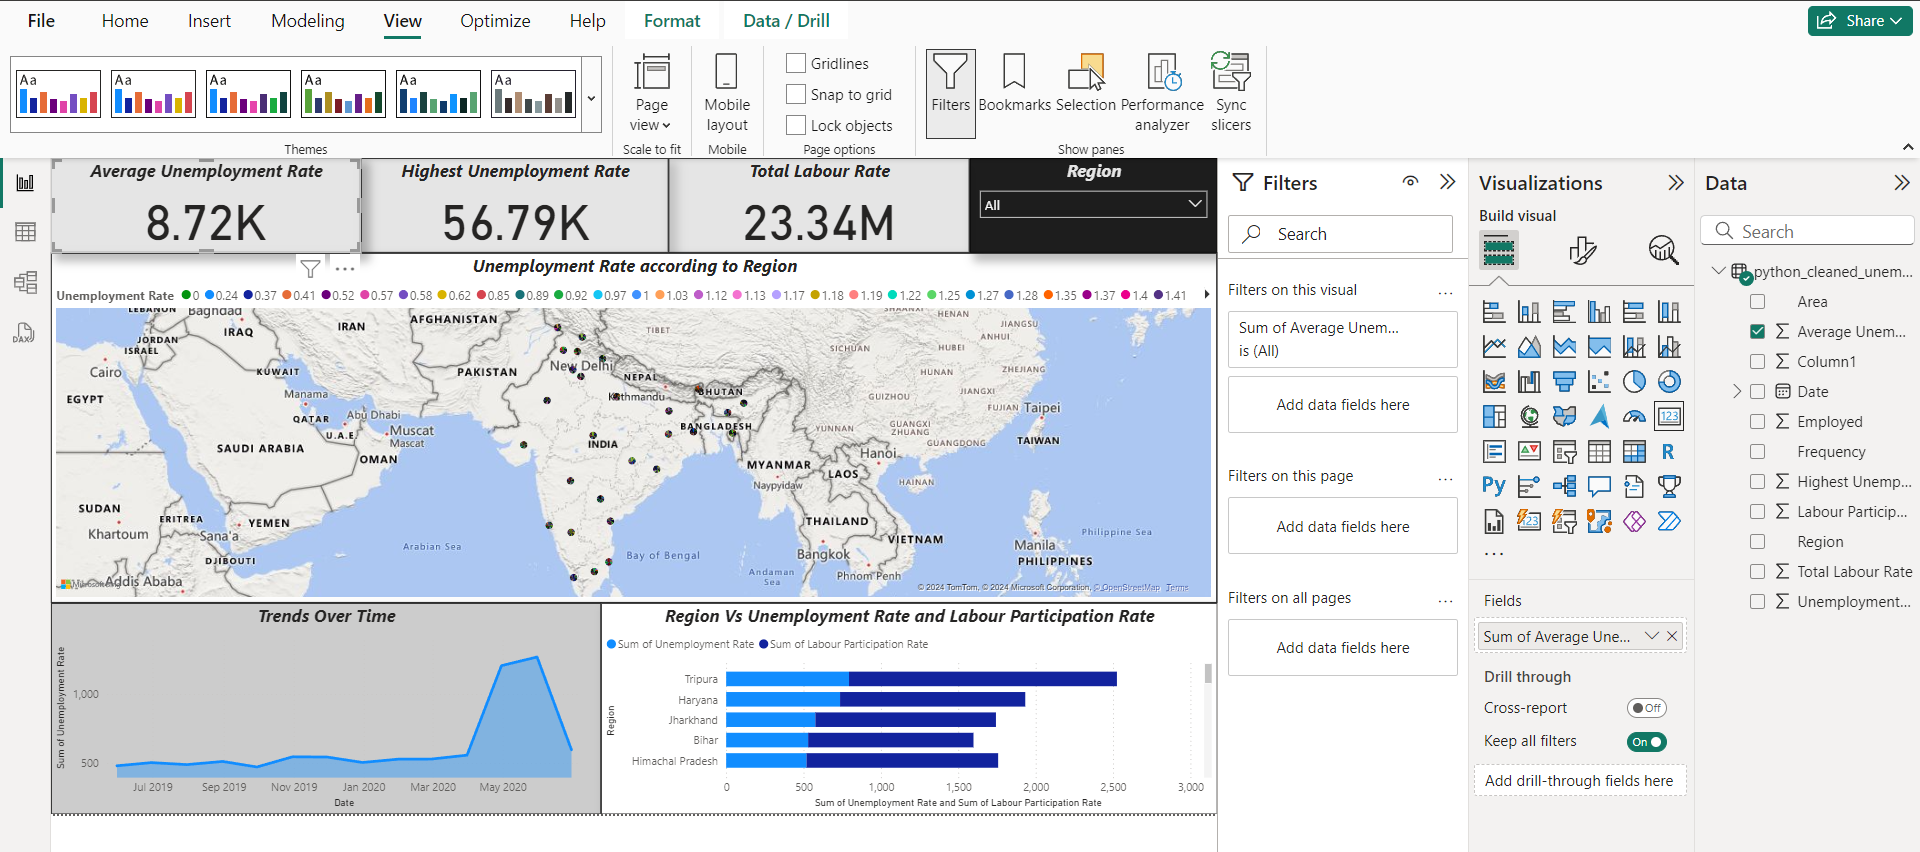

What the dashboard file says about the page in this screenshot:
{"tool":"powerbi","page":{"name":"Page 1","canvas":[1280,720],"ordinal":0},"visuals":[{"type":"card","title":"Average Unemployment Rate","fields":{"Values":["Sum(python_cleaned_unemployment_data.Average Unemployment Rate)"]},"box":[0,0,340.3,104.3],"z":0},{"type":"card","title":"Highest Unemployment Rate","fields":{"Values":["Sum(python_cleaned_unemployment_data.Highest Unemployment Rate)"]},"box":[340.3,0,337.6,104.3],"z":1000},{"type":"card","title":"Total Labour Rate","fields":{"Values":["Sum(python_cleaned_unemployment_data.Total Labour Rate)"]},"box":[677.9,0,330.7,104.3],"z":2000},{"type":"map","title":"Unemployment Rate according to Region","fields":{"Category":["python_cleaned_unemployment_data.Region"],"Series":["python_cleaned_unemployment_data.Unemployment Rate"]},"box":[0,104.3,1280.3,384.2],"z":3000},{"type":"lineChart","title":" Trends Over Time","fields":{"Category":["python_cleaned_unemployment_data.Date"],"Y":["Sum(python_cleaned_unemployment_data.Unemployment Rate)"]},"box":[0,488.5,603.8,231.9],"z":4000},{"type":"barChart","title":"Region Vs Unemployment Rate and Labour Participation Rate","fields":{"Category":["python_cleaned_unemployment_data.Region"],"Y":["Sum(python_cleaned_unemployment_data.Unemployment Rate)","Sum(python_cleaned_unemployment_data.Labour Participation Rate)"]},"box":[603.8,488.5,676.5,231.9],"z":5000},{"type":"slicer","title":"Region","fields":{"Values":["python_cleaned_unemployment_data.Region"]},"box":[1008.6,0,271.7,104.3],"z":6000}]}

Visuals, with their boxes on the page's 1280x720 design canvas (x1, y1, x2, y2). These are canvas units, not pixel positions in the 1920x852 screenshot, which may show the page scaled, cropped or inside an application window:
"Average Unemployment Rate" card: l=0, t=0, r=340, b=104
"Highest Unemployment Rate" card: l=340, t=0, r=678, b=104
"Total Labour Rate" card: l=678, t=0, r=1009, b=104
"Unemployment Rate according to Region" map: l=0, t=104, r=1280, b=488
" Trends Over Time" lineChart: l=0, t=488, r=604, b=720
"Region Vs Unemployment Rate and Labour Participation Rate" barChart: l=604, t=488, r=1280, b=720
"Region" slicer: l=1009, t=0, r=1280, b=104
